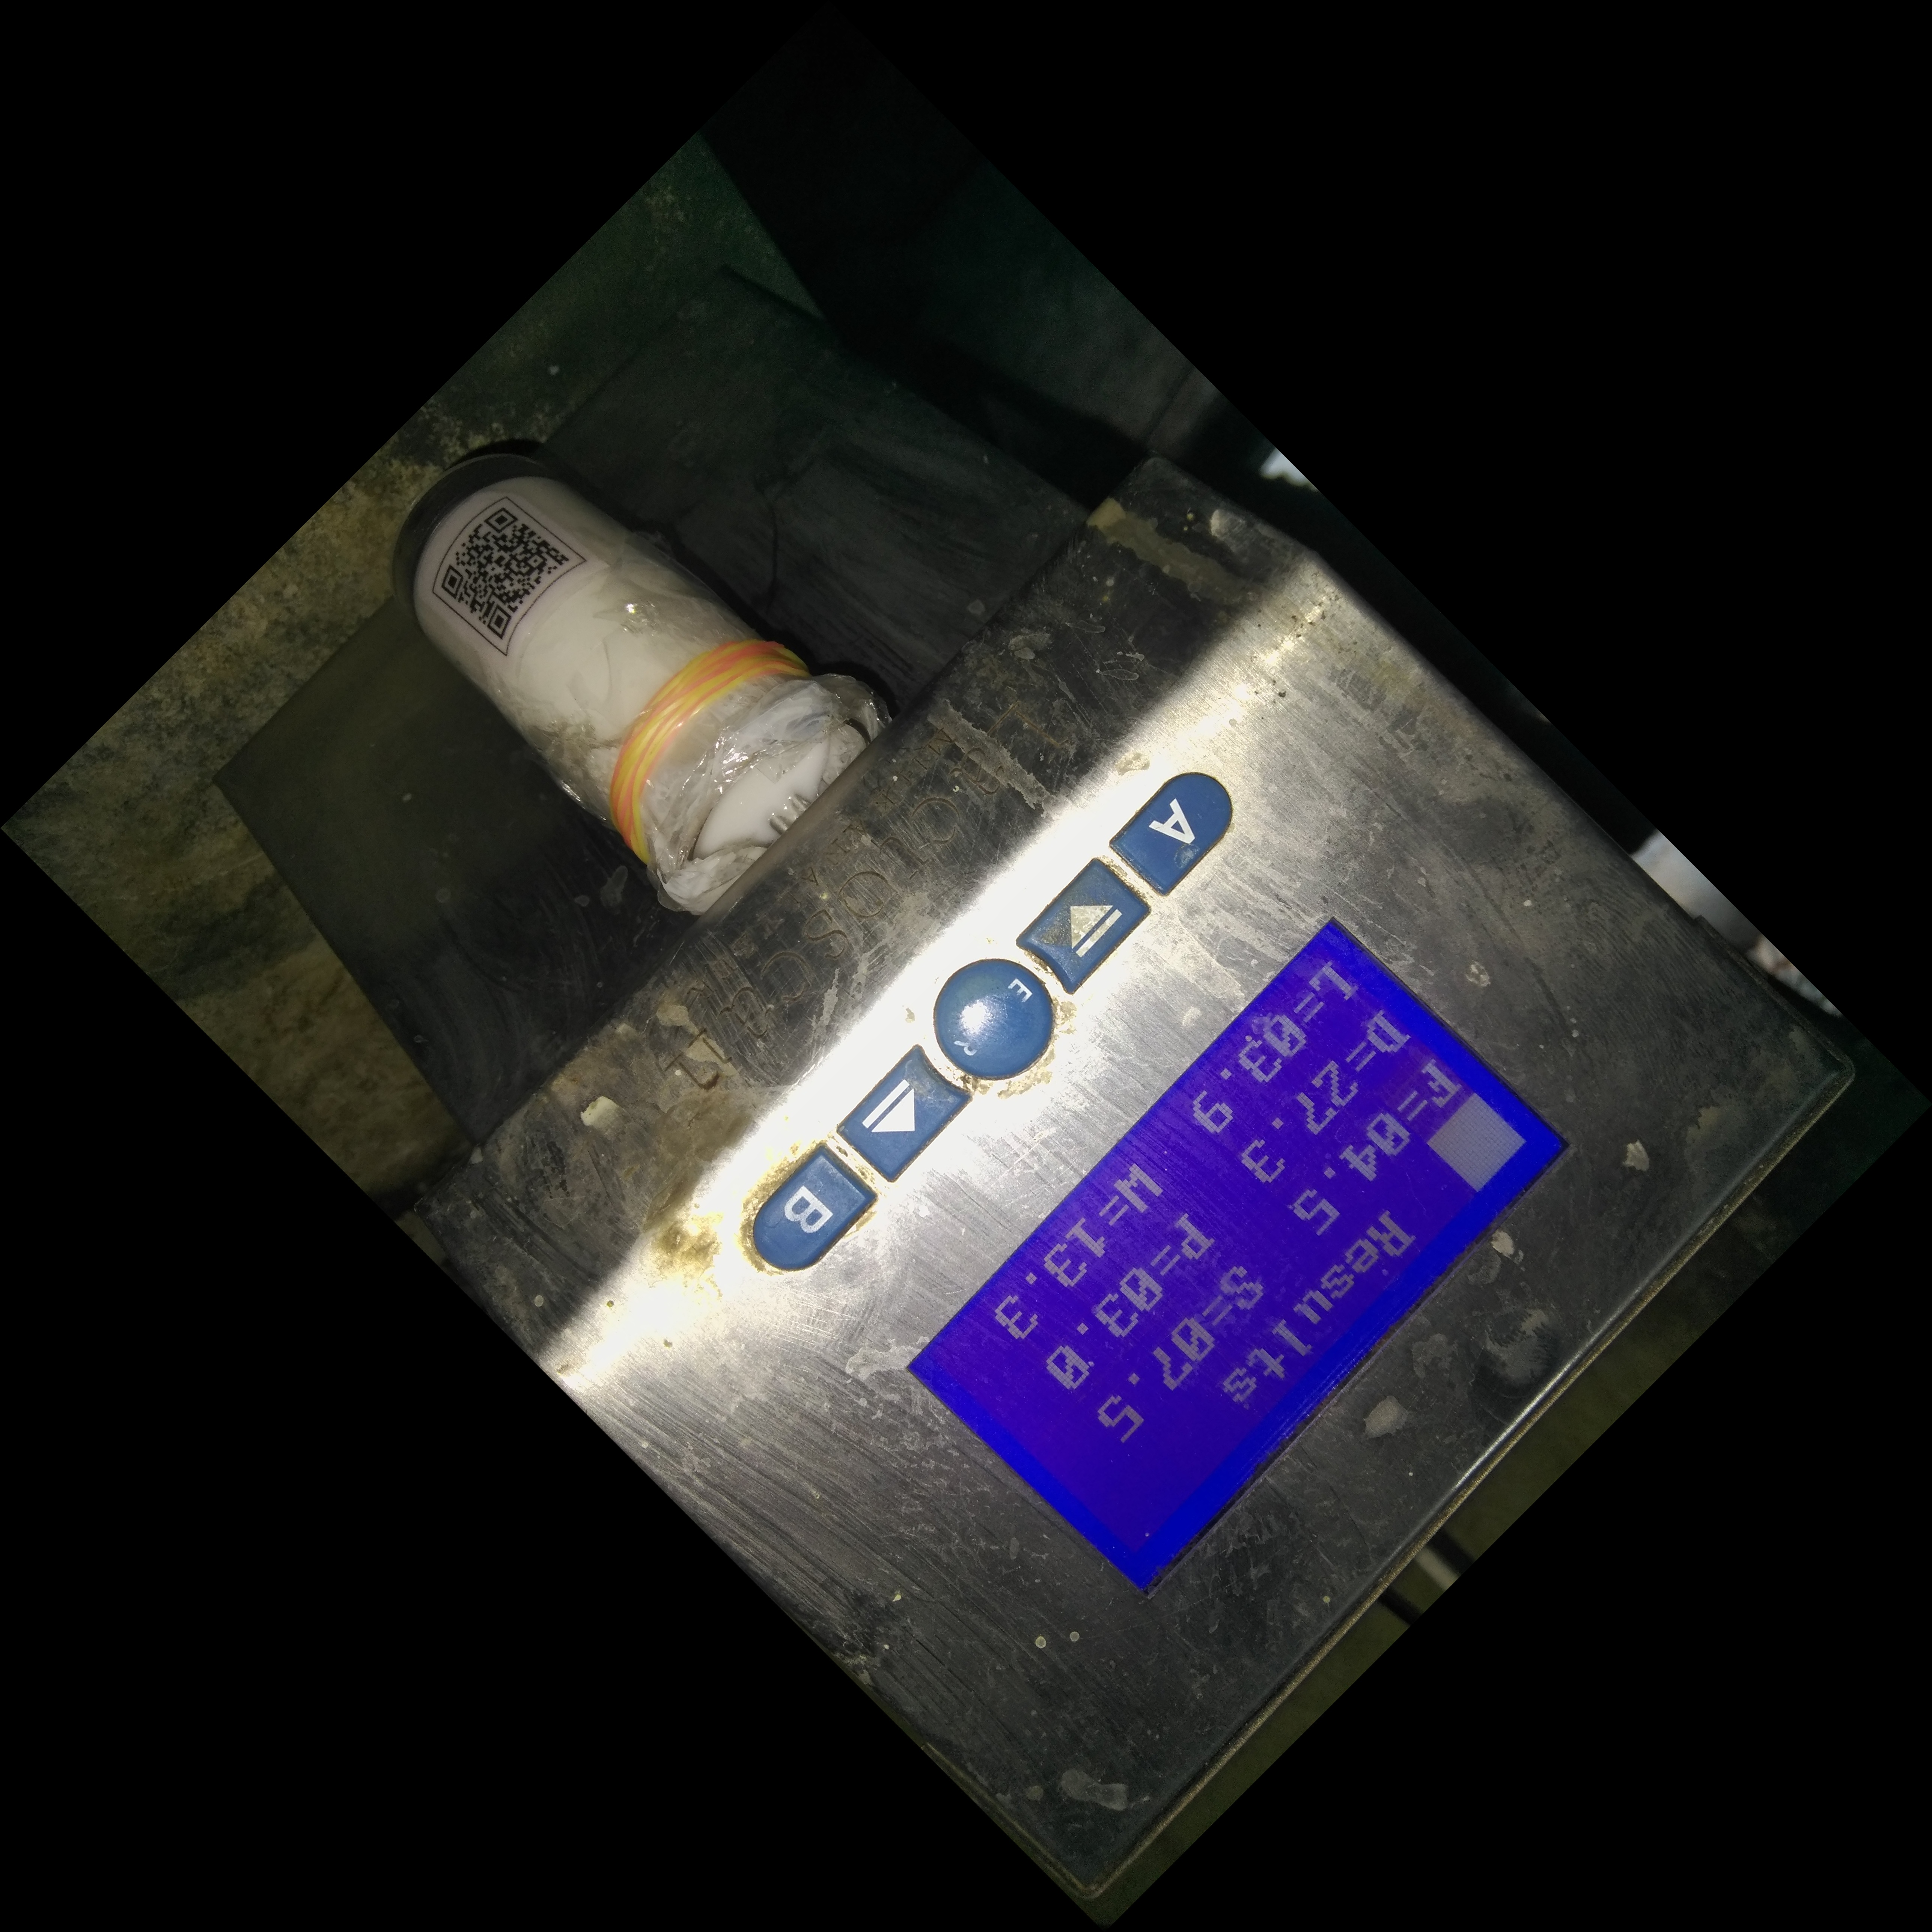lcd: (904, 897, 1580, 1606)
qr: (423, 462, 594, 660)
